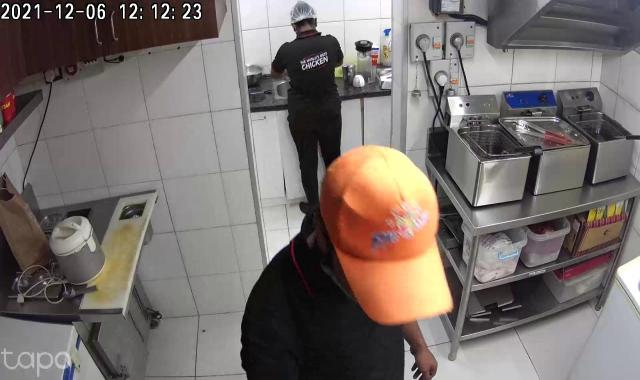hairnet: (286, 0, 319, 29)
no_hairnet: (319, 134, 457, 330)
